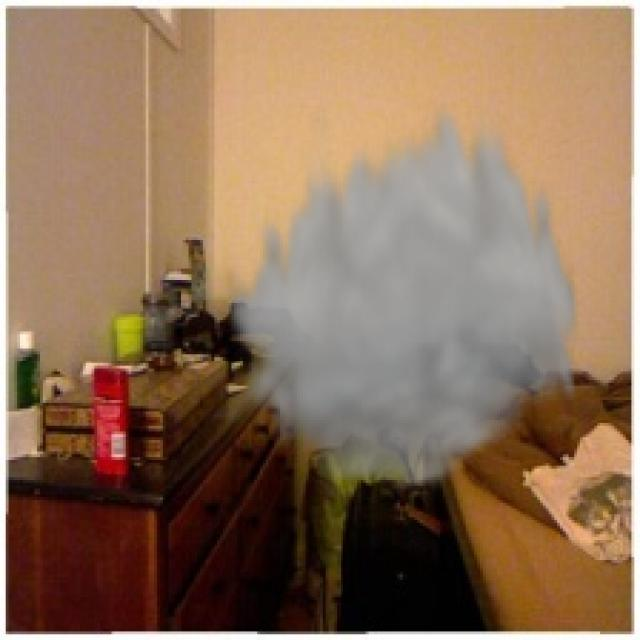smoke: (223, 92, 583, 497)
